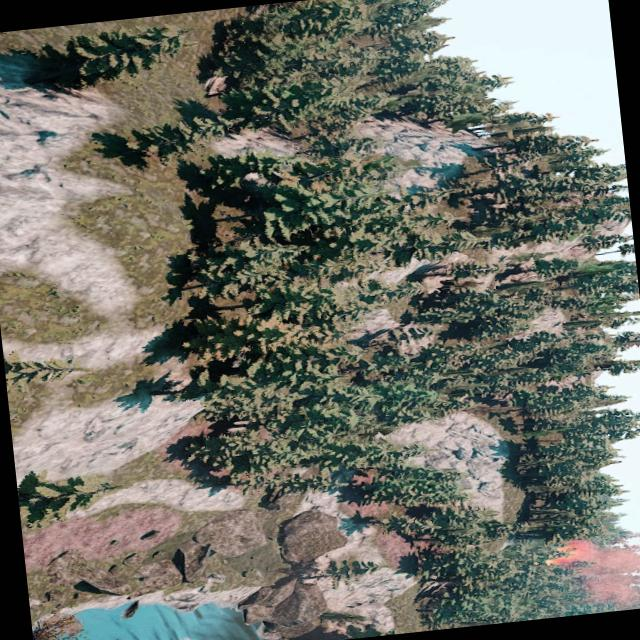fire: (548, 536, 588, 565)
smoke: (574, 537, 640, 613)
